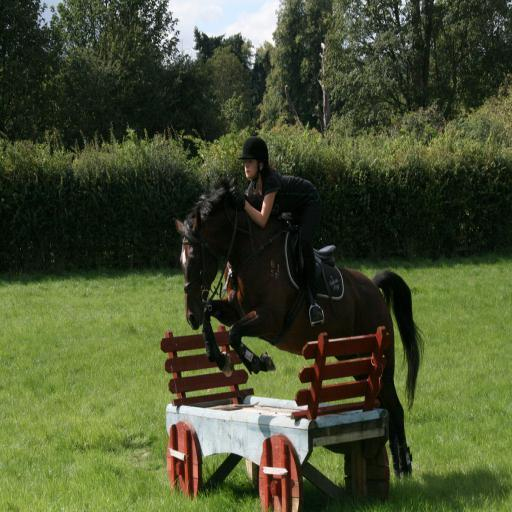horse: (174, 172, 428, 478)
